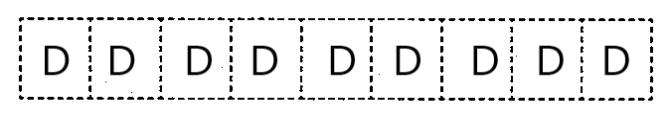D: (466, 39, 504, 82), (103, 38, 141, 81), (37, 40, 74, 82), (531, 40, 569, 80), (390, 41, 428, 80), (182, 40, 216, 82), (324, 41, 358, 81), (247, 40, 281, 80), (600, 40, 632, 80)
